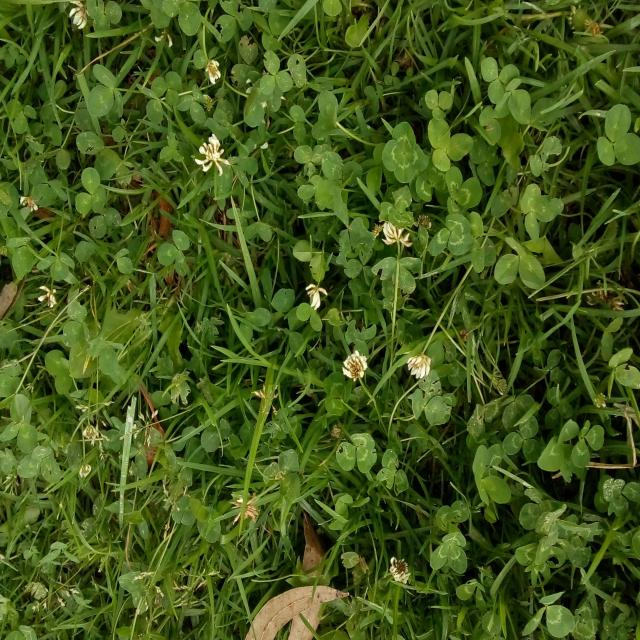Four Leaf Clover: (382, 121, 428, 183), (378, 188, 414, 228)
